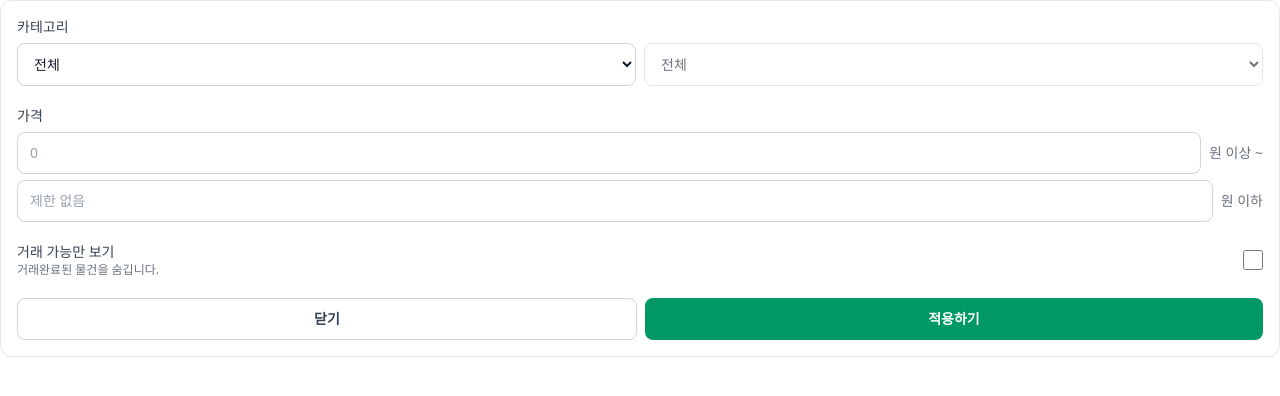
Test: PostFilterPanel › 가격에 숫자가 아닌 값을 넣으면 적용을 막는다
The image size is (1280, 396).
Type "만원" into the field named "최소 가격" at (609, 153), box left=17, top=132, right=1201, bottom=174
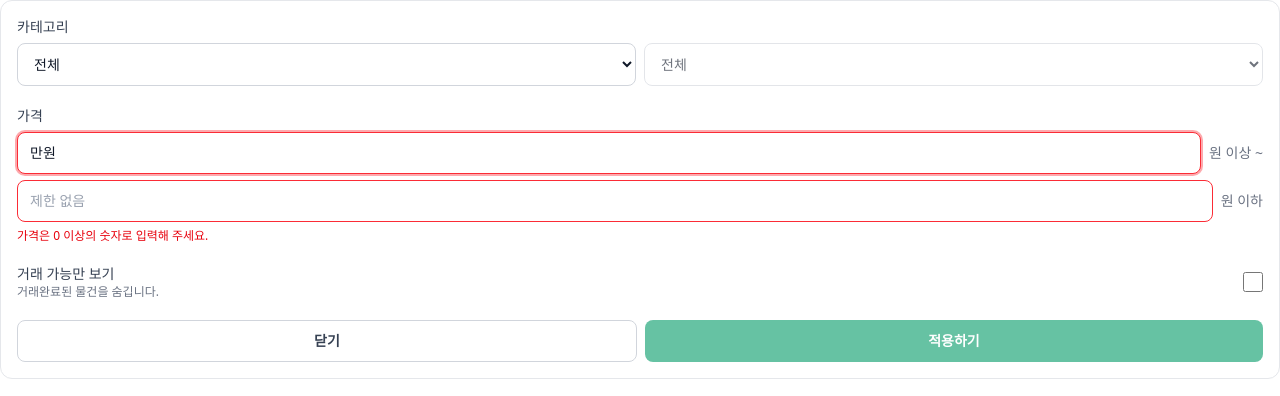
Expected: the message reads "가격은 0 이상의 숫자로 입력해 주세요.", left=17, top=227, right=208, bottom=244
Expected: the button "적용하기" is disabled, left=645, top=320, right=1263, bottom=362
